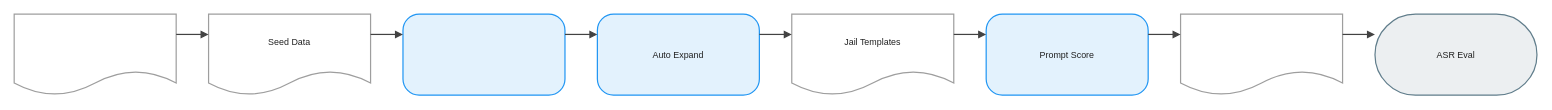
This 1552x110 diagram has some shape labels left out. Each missing label, with the centre of its shape:
"Final Set" belongs at point 1261,54.
"Risk Taxonomy" belongs at point 94,54.
"ZH Correction" belongs at point 483,54.
